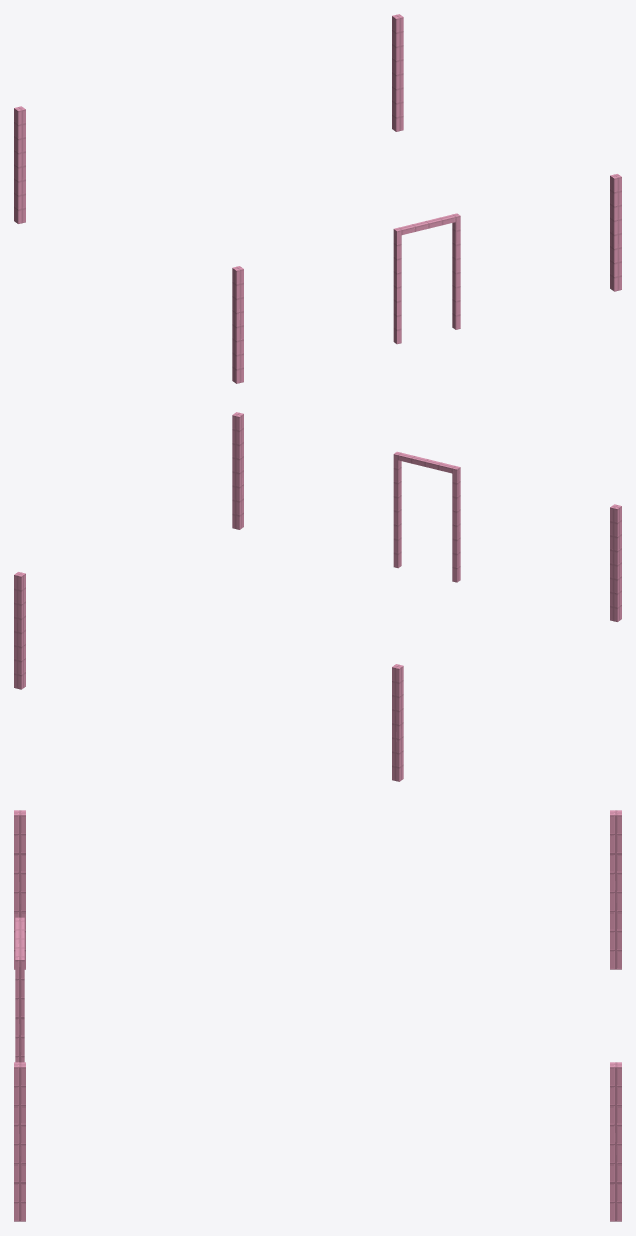
Rendered from accent-7.glb.
3 renders of one model, top to bottom at view 1: azimuth 30°, elevation 25°; view 2: azimuth 150°, elevation 25°; view 3: azimuth 270°, elevation 25°, orthographic. The views are drawn at different scales.
Visible parts, largest first — view 1: accent-7; view 2: accent-7; view 3: accent-7.
Boxes of the visible parts, bbox=[...] form: accent-7: bbox=[14, 14, 621, 383]; accent-7: bbox=[14, 412, 621, 781]; accent-7: bbox=[14, 810, 621, 1221].
Size of the model in its own units: 14.28 by 4 by 14.28.
1 material, 1 textured.
